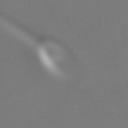normal: (1, 11, 39, 46)
